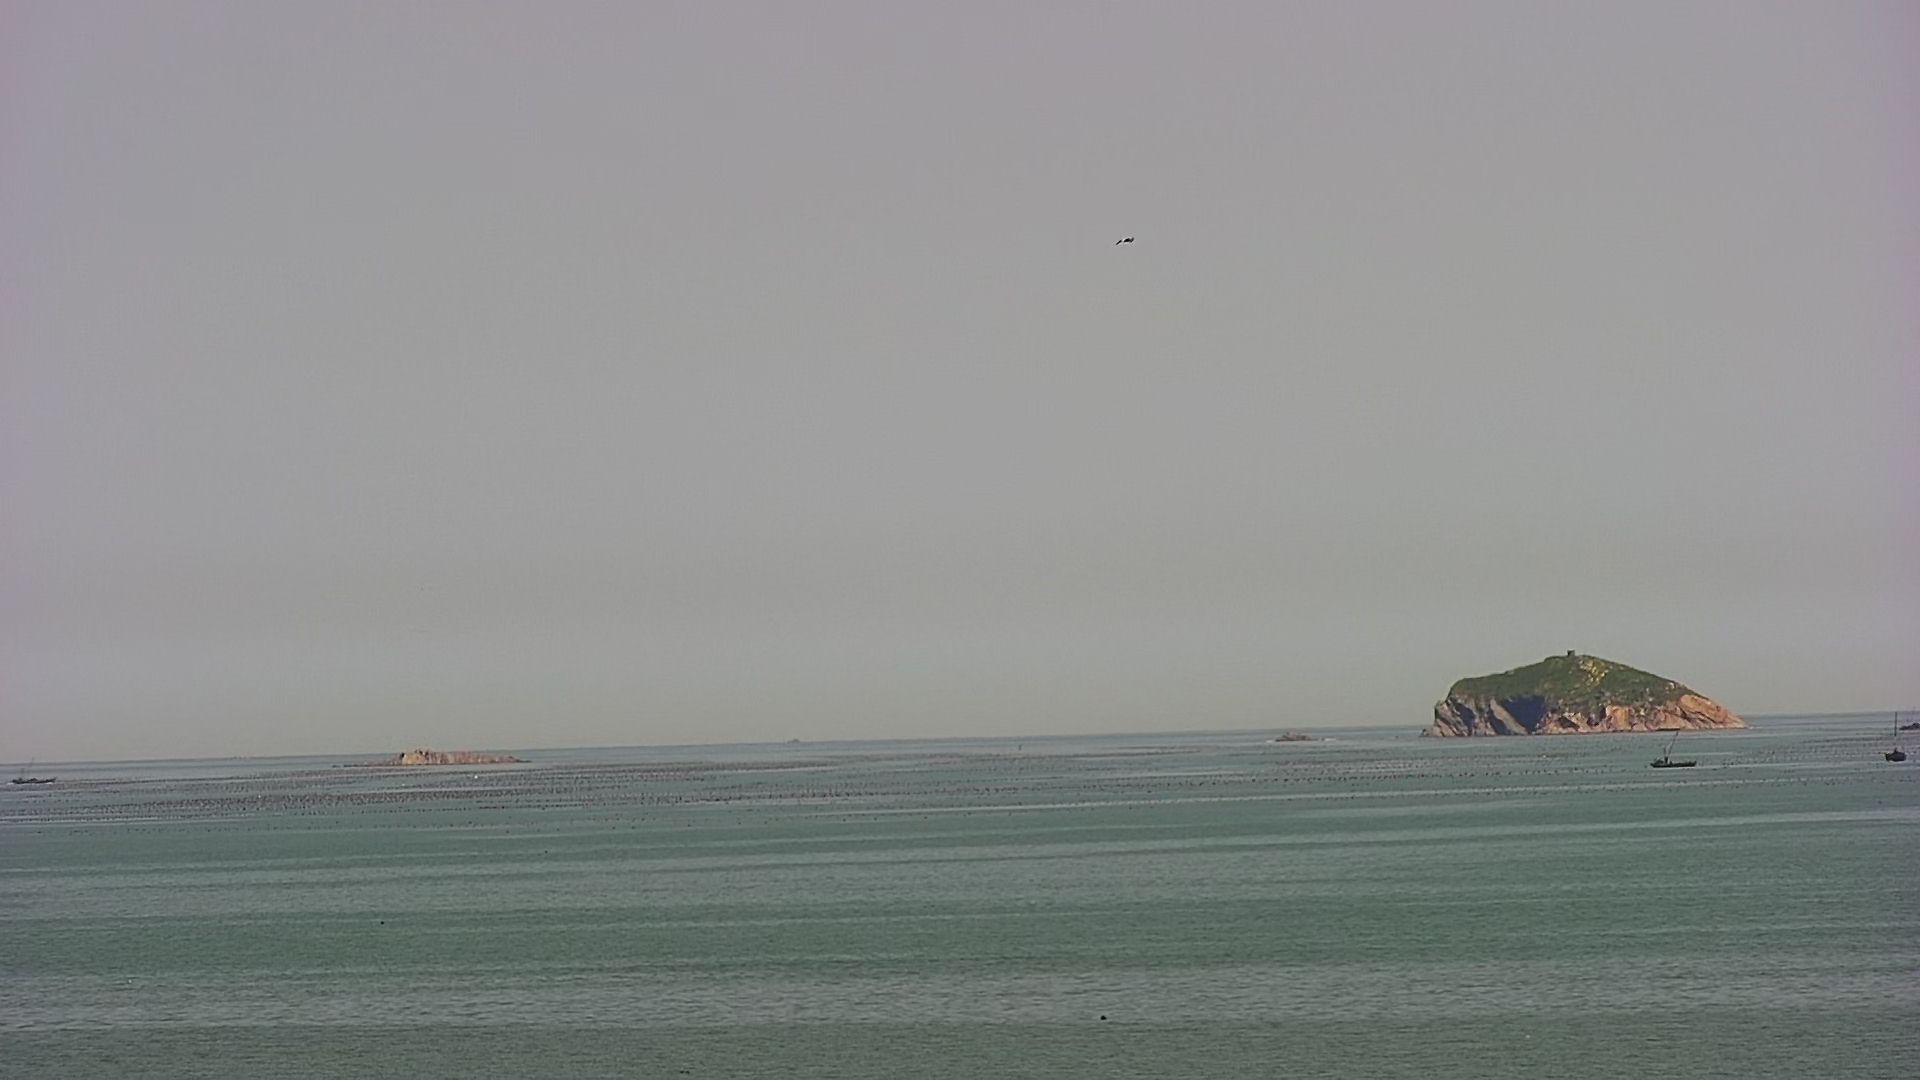boat: (1651, 727, 1700, 771)
rock: (1418, 644, 1753, 741), (342, 752, 541, 767)
